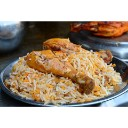briyani: (15, 38, 119, 96)
